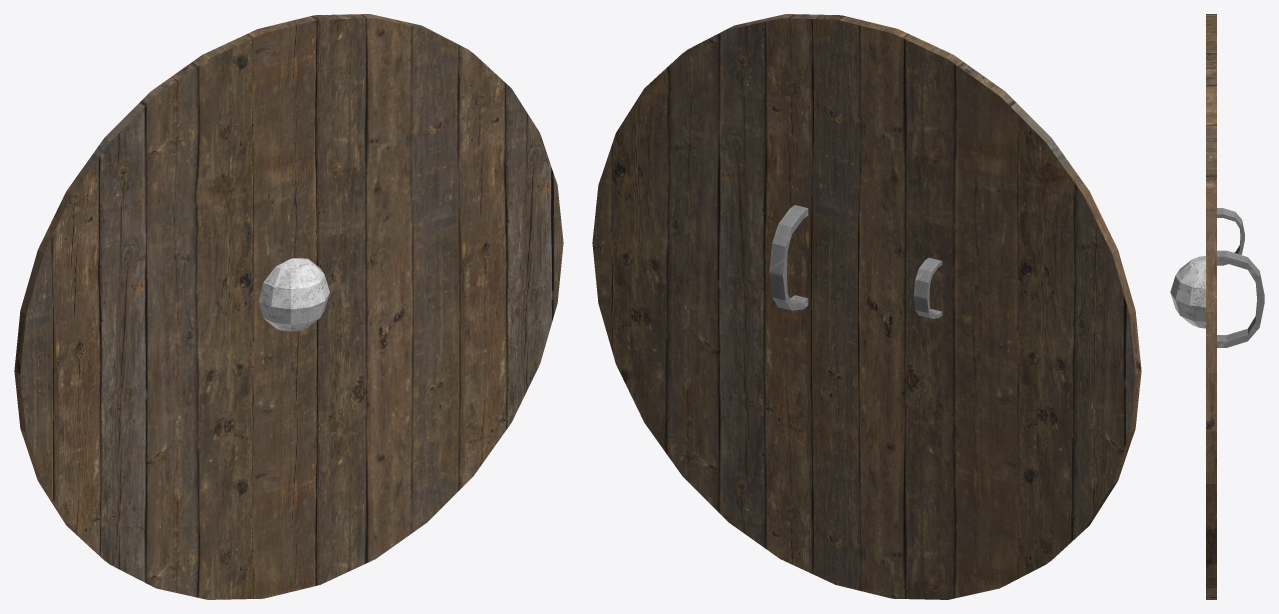
The model's file is Viking  Shield.fbx.
3 views of the same model, side by side, from view 1: azimuth 30°, elevation 25°; view 2: azimuth 150°, elevation 25°; view 3: azimuth 270°, elevation 25° (orthographic). The views are drawn at different scales.
Parts seen in each view (by area): view 1: Disk, Metal center; view 2: Disk, Handle; view 3: Disk, Metal center, Handle.
Part boxes in pixels (<box>): Disk: <box>14,14,563,599</box>; Metal center: <box>258,258,329,331</box>; Disk: <box>592,14,1141,599</box>; Handle: <box>769,205,942,318</box>; Disk: <box>1206,14,1216,599</box>; Metal center: <box>1170,256,1205,328</box>; Handle: <box>1217,208,1264,347</box>.
Size of the model in its own units: 80 by 79.56 by 12.83.
1 material, 1 textured.
